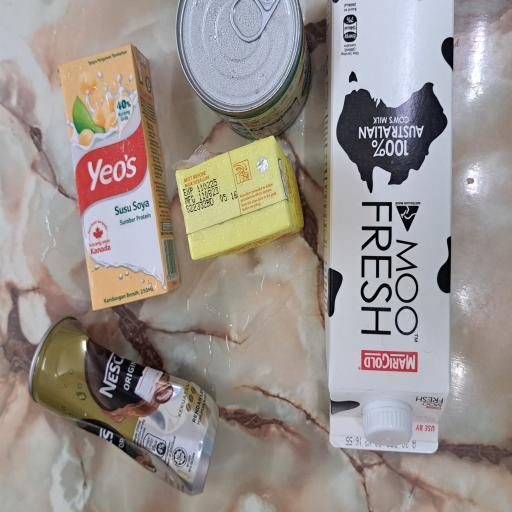can: (12, 32, 146, 292), (282, 236, 384, 412)
drink carton: (152, 80, 352, 241), (42, 434, 383, 512), (185, 232, 282, 402)
plastic bottle cap: (46, 480, 88, 512)
pop tab: (350, 302, 384, 372)
